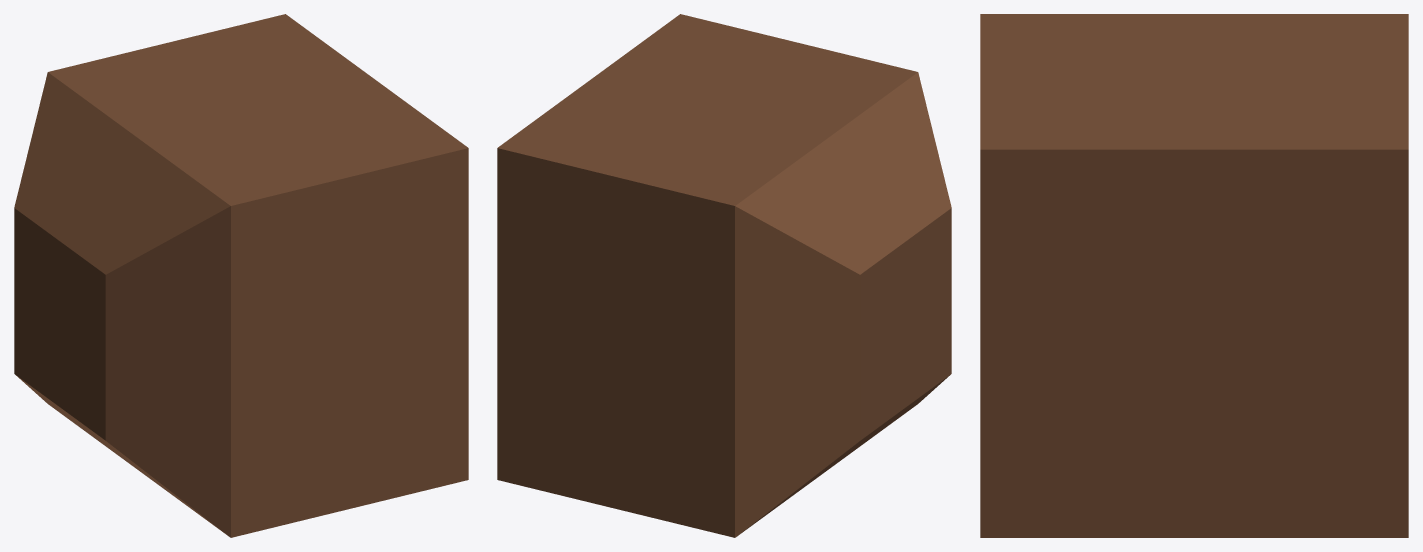
Rendered from stairBlock.fbx.
3 views of the same model, side by side, from view 1: azimuth 30°, elevation 25°; view 2: azimuth 150°, elevation 25°; view 3: azimuth 270°, elevation 25° (orthographic). The views are drawn at different scales.
Visible parts, largest first — view 1: stairBlock; view 2: stairBlock; view 3: stairBlock.
Boxes of the visible parts, x1,y1,x2,y2 form: stairBlock: (14,14,468,537); stairBlock: (497,14,951,537); stairBlock: (980,14,1408,537).
Size of the model in its own units: 2 by 2 by 2.
